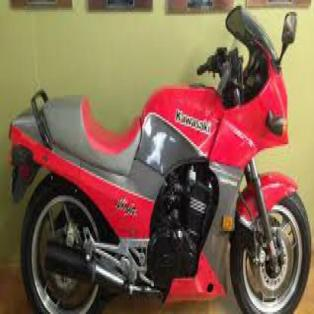Motocicleta: (5, 3, 313, 313)
